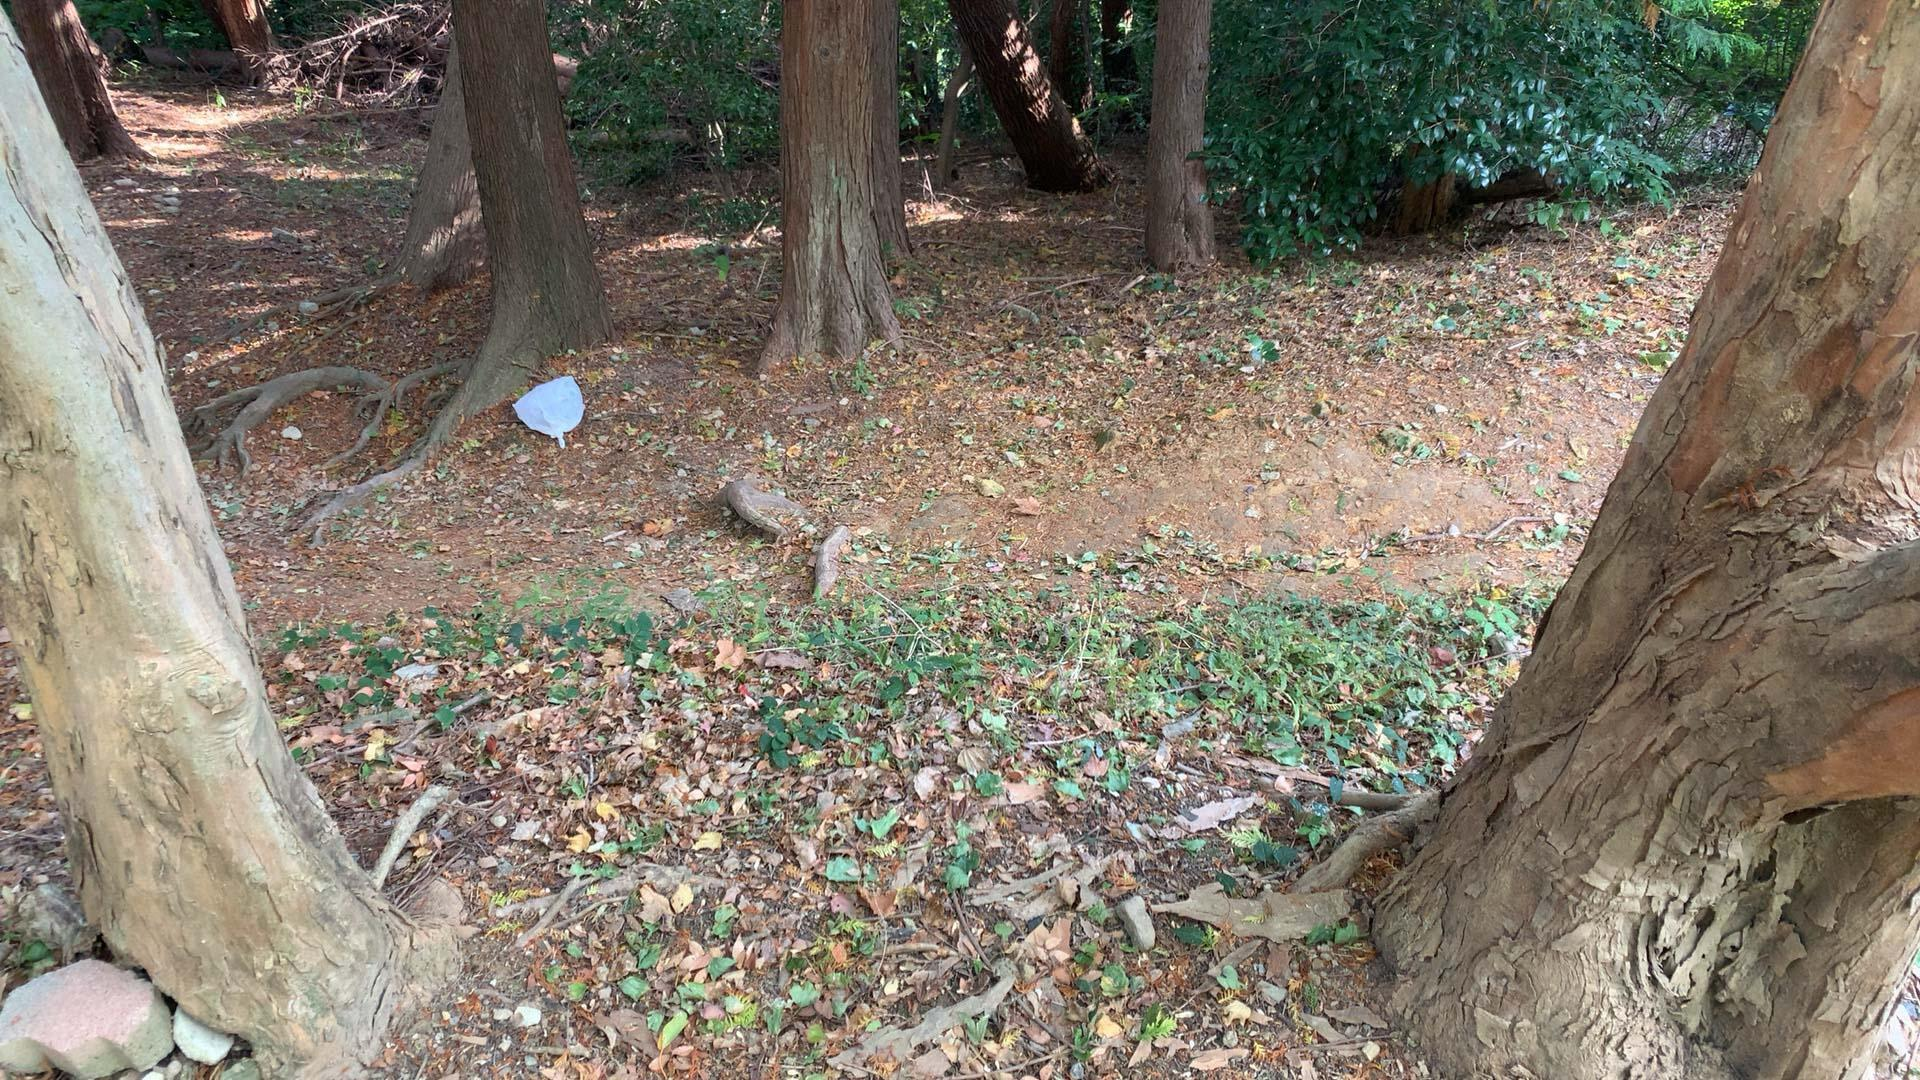white_bag: (498, 371, 595, 454)
